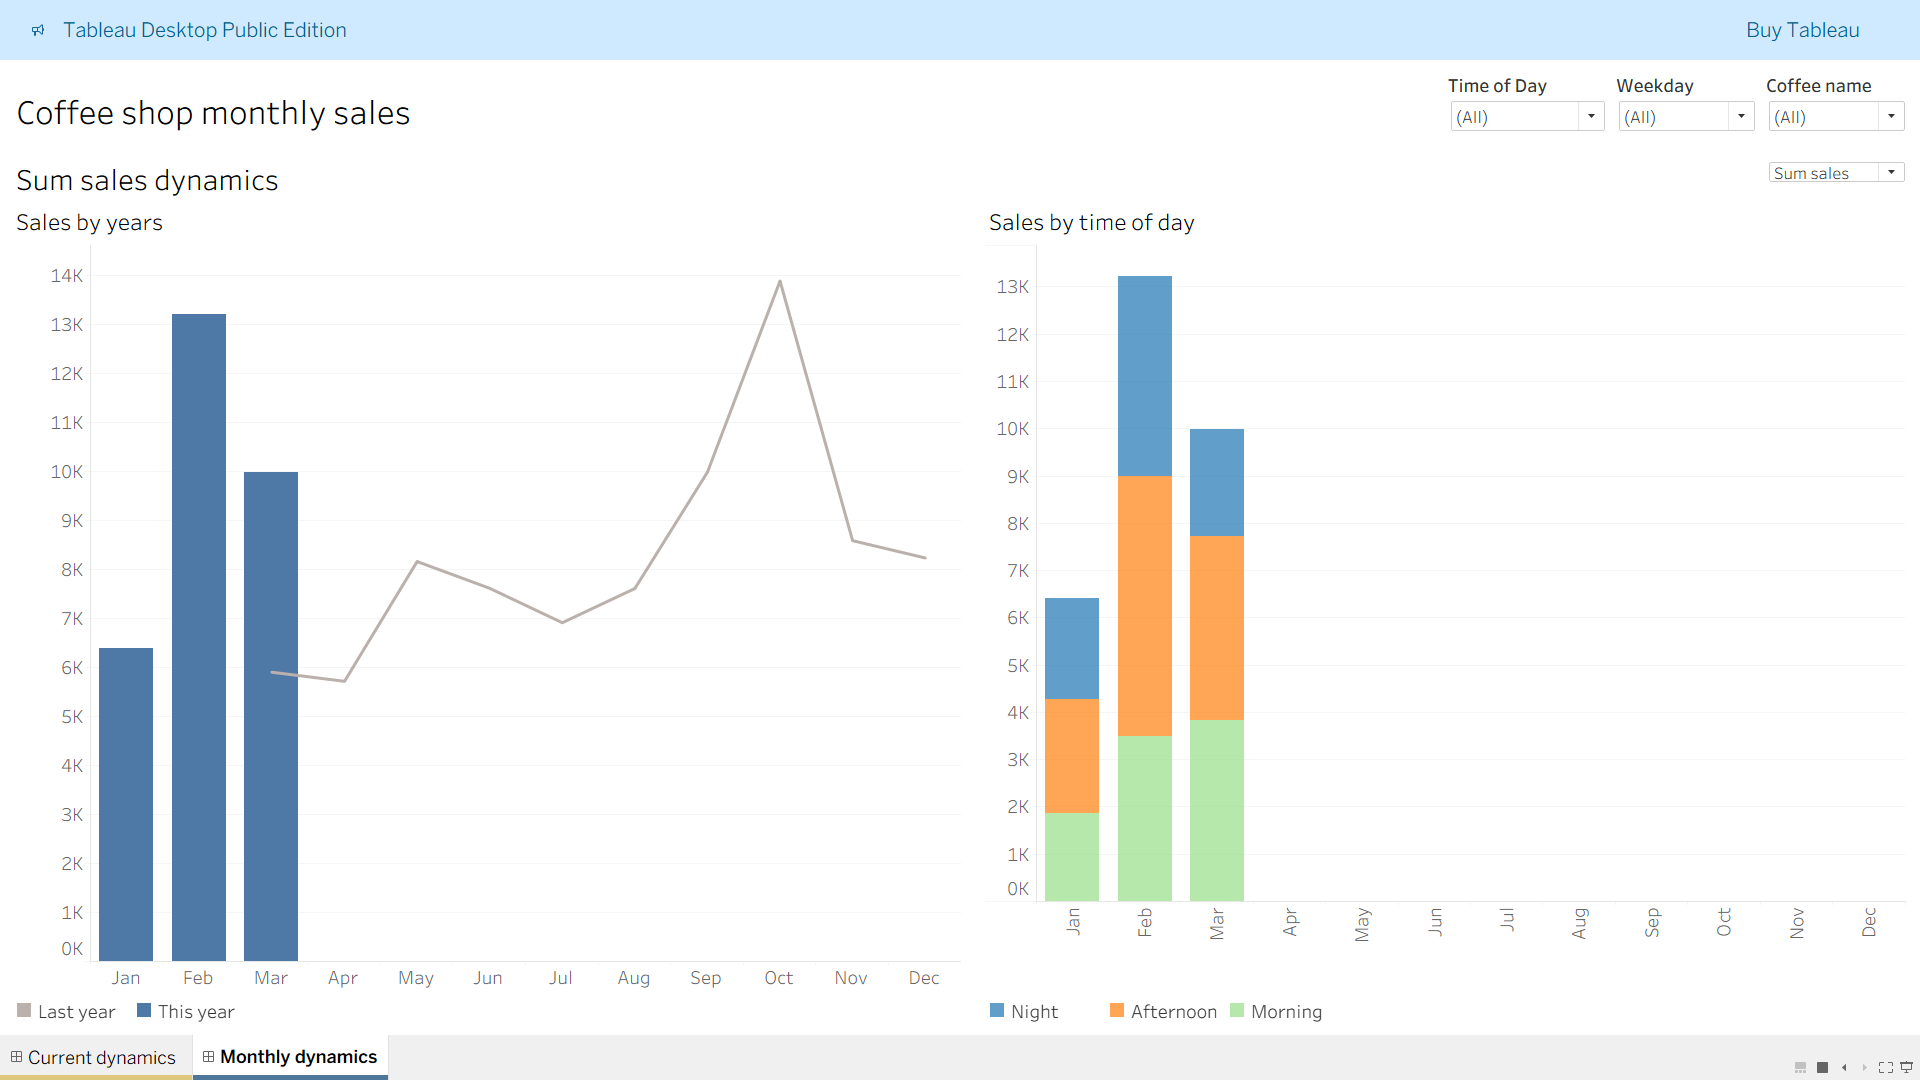

Layout of this report page (visuals, bound fields, positions):
{"tool":"tableau","page":{"name":"Monthly dynamics","canvas":[1000,1000],"units":"permille","ordinal":1},"visuals":[{"type":"text","box":[5.5,10.6,669.4,88.4]},{"type":"filter","title":"Sum by month","param":"[federated.0eo47hy0bv3t661cgwpq90oafx3s].[none:Time_of_Day:nk]","box":[674.9,10.6,114.8,88.4]},{"type":"filter","title":"Sum by month","param":"[federated.0eo47hy0bv3t661cgwpq90oafx3s].[none:Weekday:nk]","box":[789.6,10.6,102.5,88.4]},{"type":"filter","title":"Sum by month","param":"[federated.0eo47hy0bv3t661cgwpq90oafx3s].[none:coffee_name:nk]","box":[892.1,10.6,102.5,88.4]},{"type":"text","box":[5.5,98.9,886.6,62]},{"type":"parameter","param":"[Parameters].[Parameter 2]","box":[892.1,98.9,102.5,62]},{"type":"text","box":[5.5,160.9,498.3,51.5]},{"type":"text","box":[514.7,160.9,479.9,51.5]},{"type":"worksheet","title":"Sum by month","mark":"Bar","rows":["Calculation_399413050691047424","TY_money (copy)_399413050691321857"],"cols":["Month_name"],"box":[5.5,212.4,498.3,733.5]},{"type":"worksheet","title":"Sum by month and time of day","mark":"Bar","rows":["Calculation_399413050691047424"],"cols":["Month_name"],"box":[514.7,212.4,479.9,733.5]},{"type":"legend","title":"Sum by month","param":"[federated.0eo47hy0bv3t661cgwpq90oafx3s].[:Measure Names]","box":[5.5,945.9,498.3,43.5]},{"type":"legend","title":"Sum by month and time of day","param":"[federated.0eo47hy0bv3t661cgwpq90oafx3s].[none:Time_of_Day:nk]","box":[514.7,945.9,479.9,43.5]}]}

Visuals, with their boxes on the dashboard's canvas, which has no fixed pixel size, in thousandths of its width and height (x1, y1, x2, y2). These are canvas units, not pixel positions in the 1920x1080 screenshot, which may show the page scaled, cropped or inside an application window:
text: 6, 11, 675, 99
"Sum by month" filter: 675, 11, 790, 99
"Sum by month" filter: 790, 11, 892, 99
"Sum by month" filter: 892, 11, 995, 99
text: 6, 99, 892, 161
parameter: 892, 99, 995, 161
text: 6, 161, 504, 212
text: 515, 161, 995, 212
"Sum by month" worksheet (Bar marks): 6, 212, 504, 946
"Sum by month and time of day" worksheet (Bar marks): 515, 212, 995, 946
"Sum by month" legend: 6, 946, 504, 989
"Sum by month and time of day" legend: 515, 946, 995, 989
